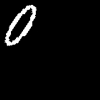chain: (5, 5, 35, 44)
